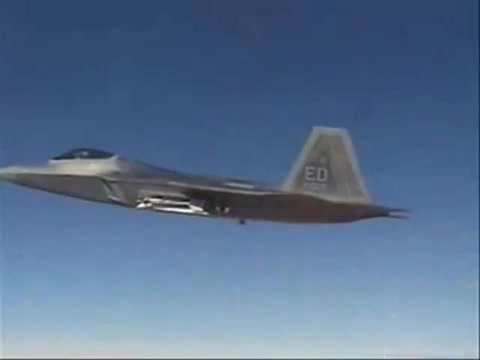aeroplane: (1, 124, 414, 229)
